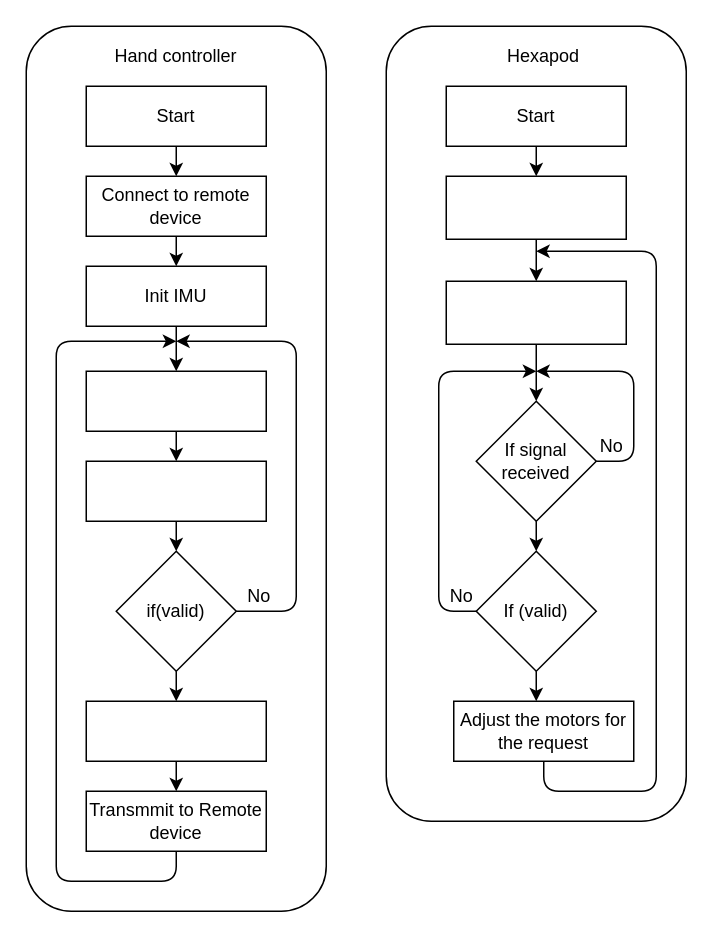
The diagram is 713 pixels wide and 938 high, and some of its shapes have lost their labels. Here are the shapes that lost their labels. From the top down, the box of each, then its label:
(445, 175, 626, 239): Connect to remote controller
(445, 280, 626, 344): Wait for signal
(85, 370, 266, 431): Get IMU data
(85, 460, 266, 521): calculate pitch and roll
(85, 700, 266, 761): Detect motion
